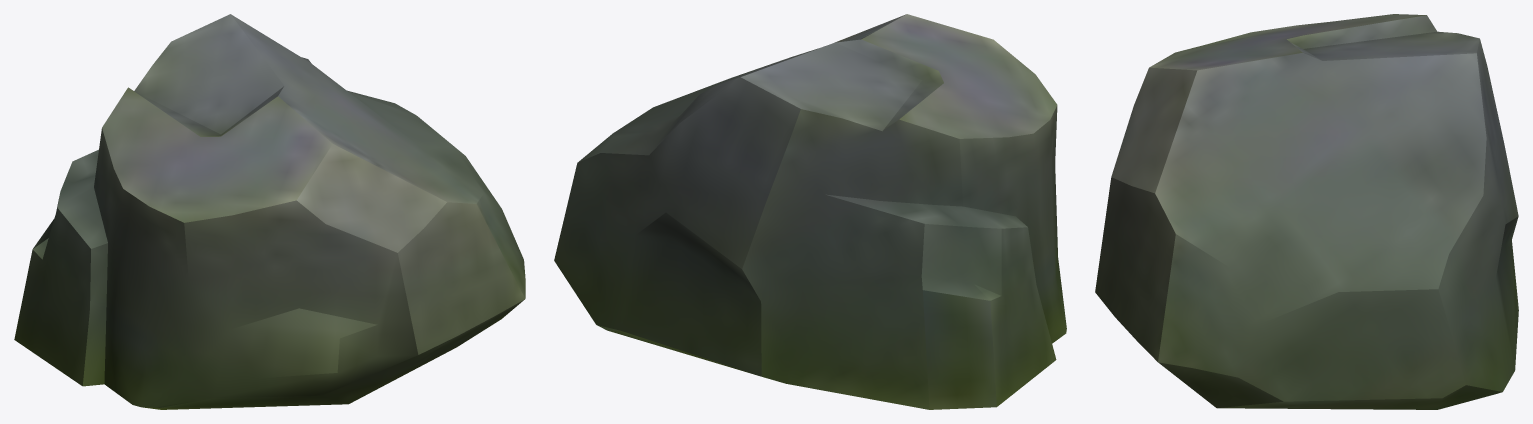
The model's file is Rock_Medium_2.gltf.
3 views of the same model, side by side, from view 1: azimuth 30°, elevation 25°; view 2: azimuth 150°, elevation 25°; view 3: azimuth 270°, elevation 25° (orthographic). The views are drawn at different scales.
Parts seen in each view (by area): view 1: Rock_Medium_2; view 2: Rock_Medium_2; view 3: Rock_Medium_2.
Part boxes in pixels (x1=…): Rock_Medium_2: x1=14, y1=14, x2=525, y2=409; Rock_Medium_2: x1=554, y1=14, x2=1066, y2=409; Rock_Medium_2: x1=1095, y1=14, x2=1518, y2=409.
Size of the model in its own units: 3.05 by 1.9 by 2.48.
Materials: 1 (1 with a texture image).
